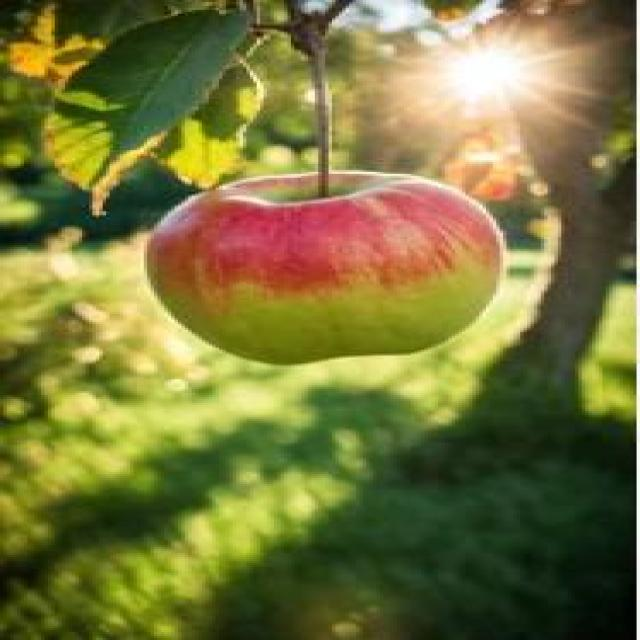fruit: (141, 161, 514, 371)
